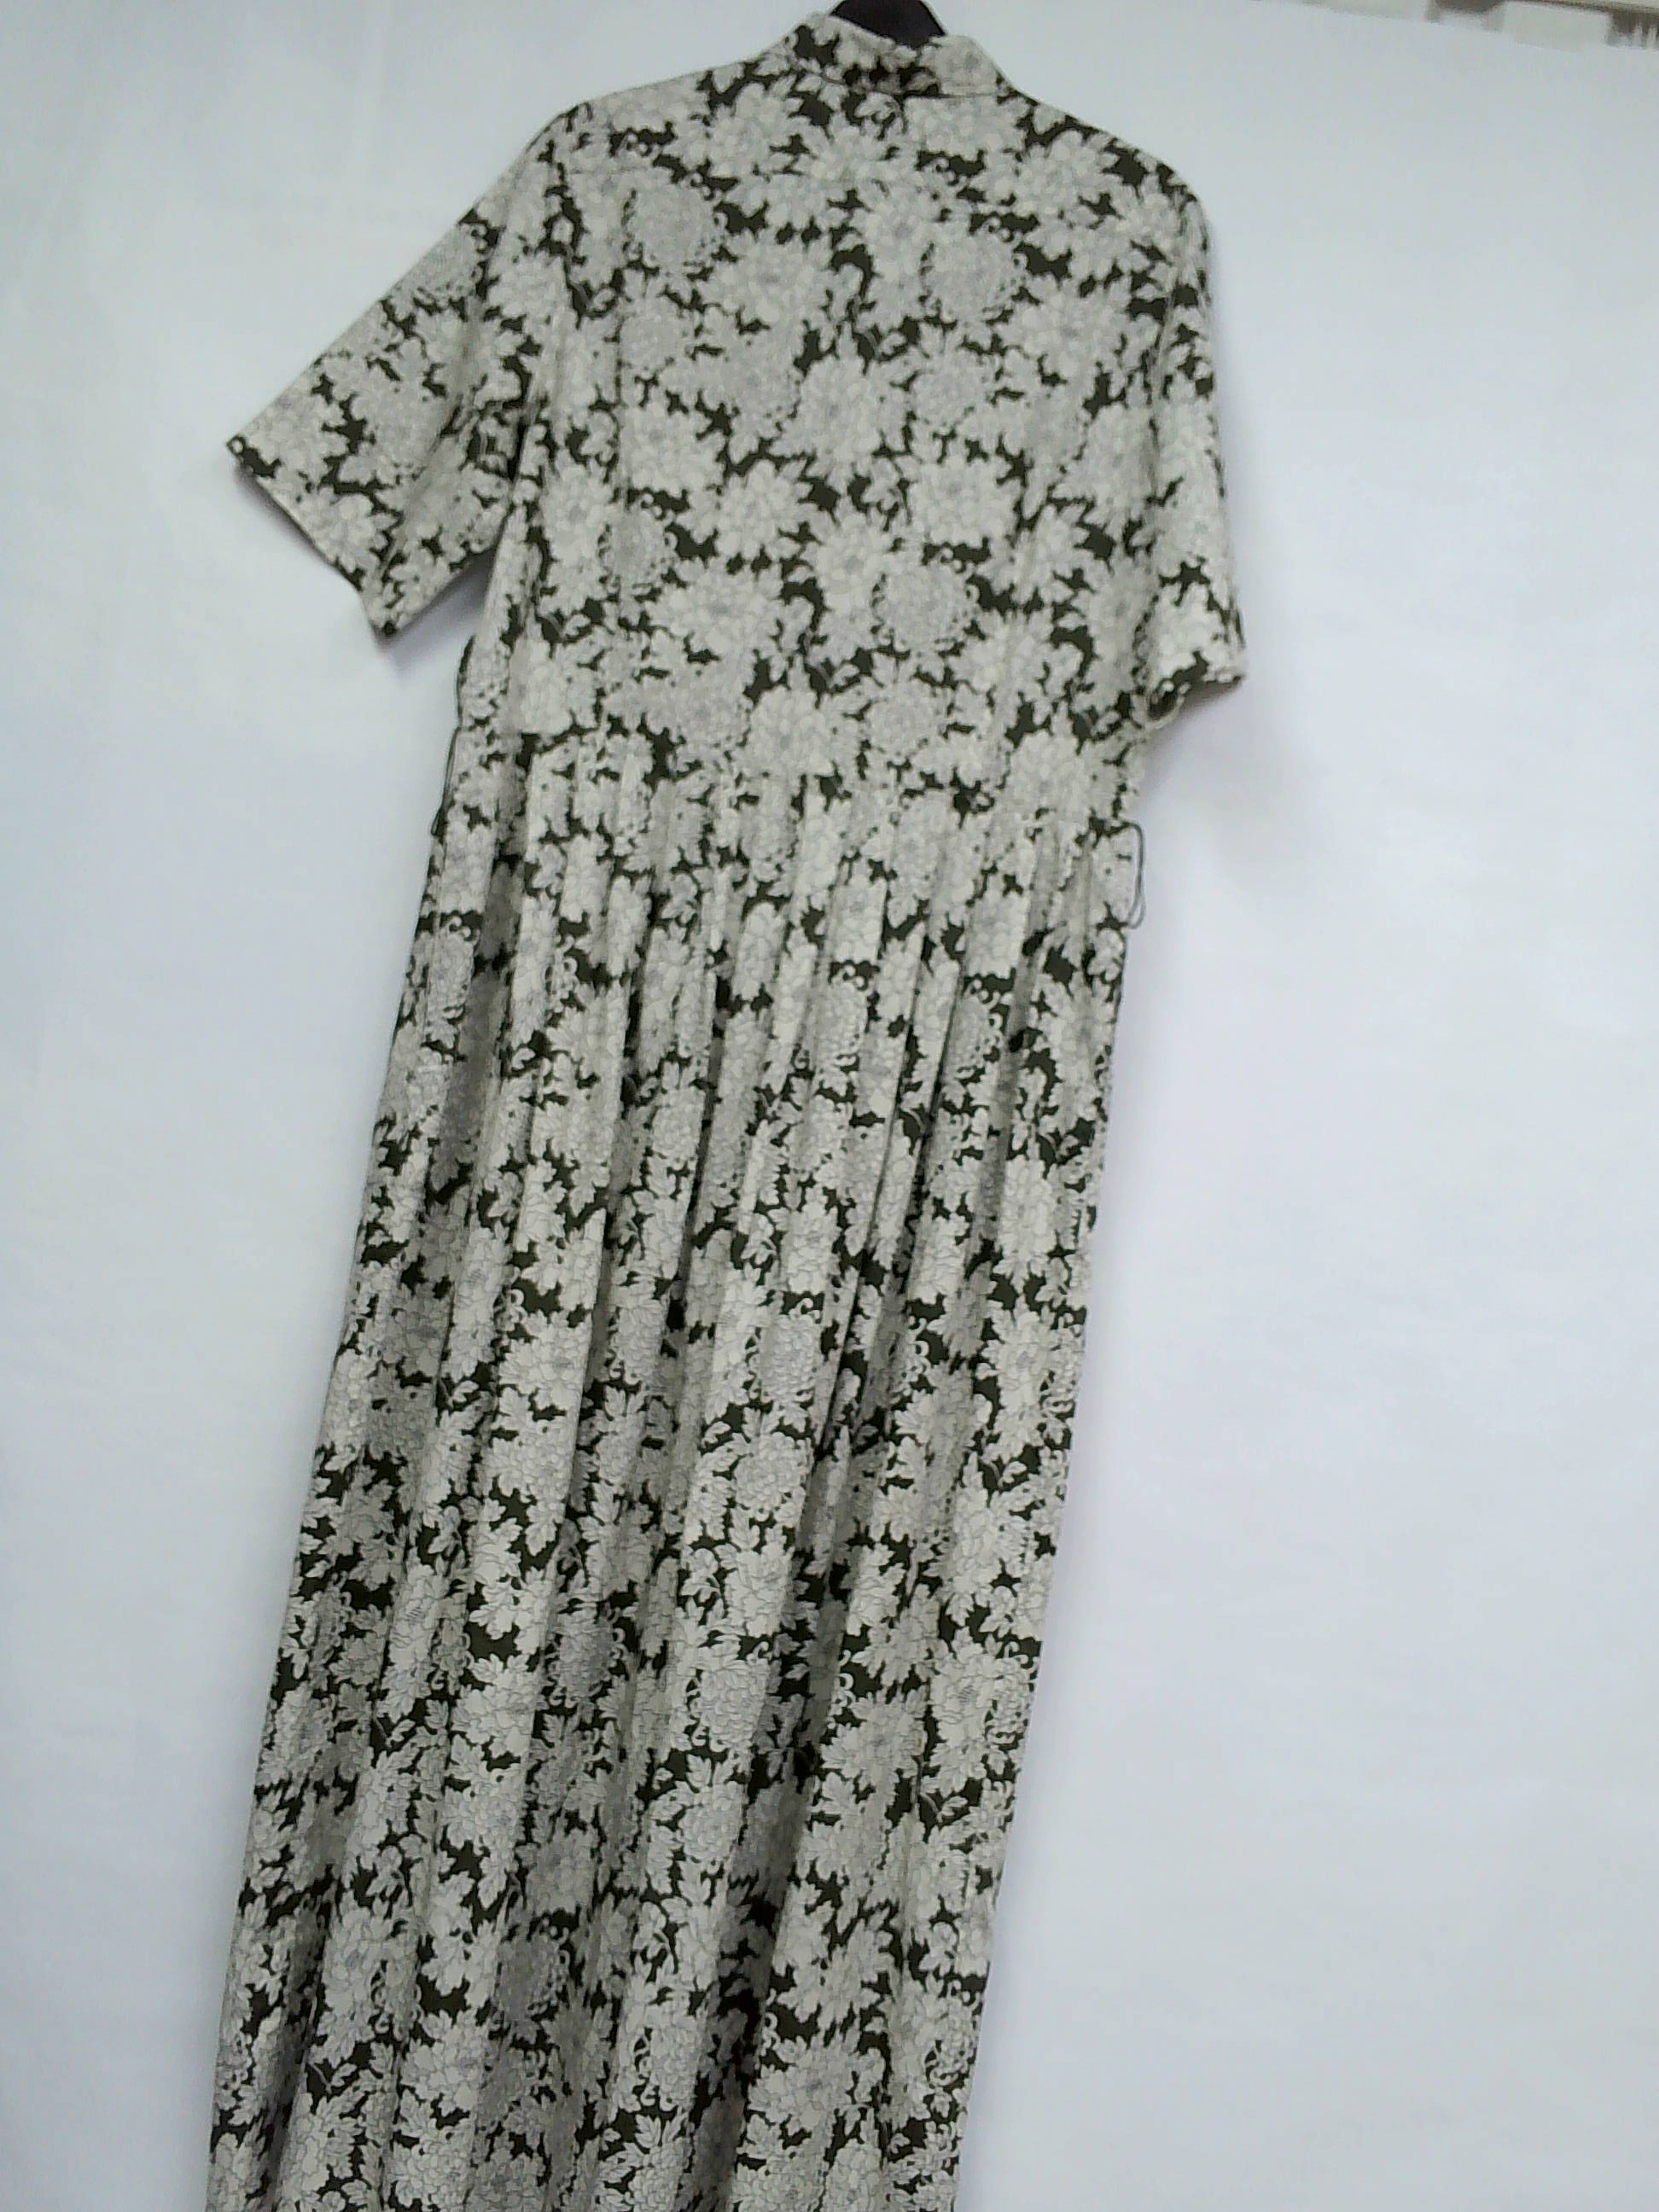structural: (894, 738, 1051, 836)
